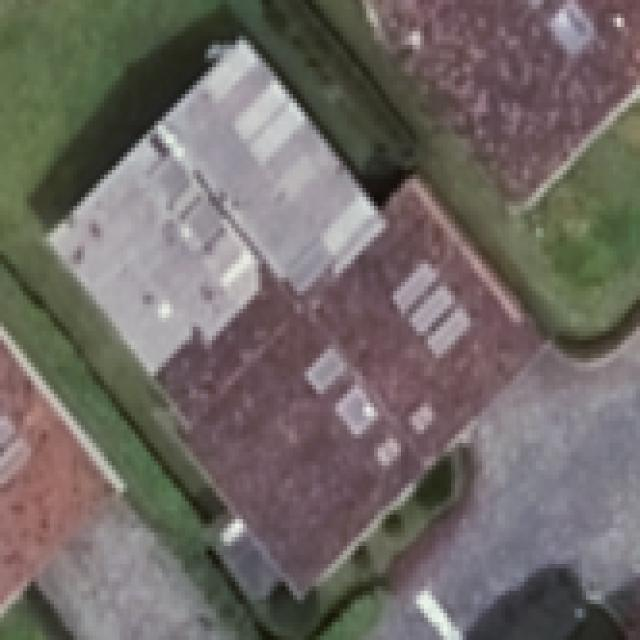Batiment: (50, 39, 540, 594), (368, 1, 640, 201)
